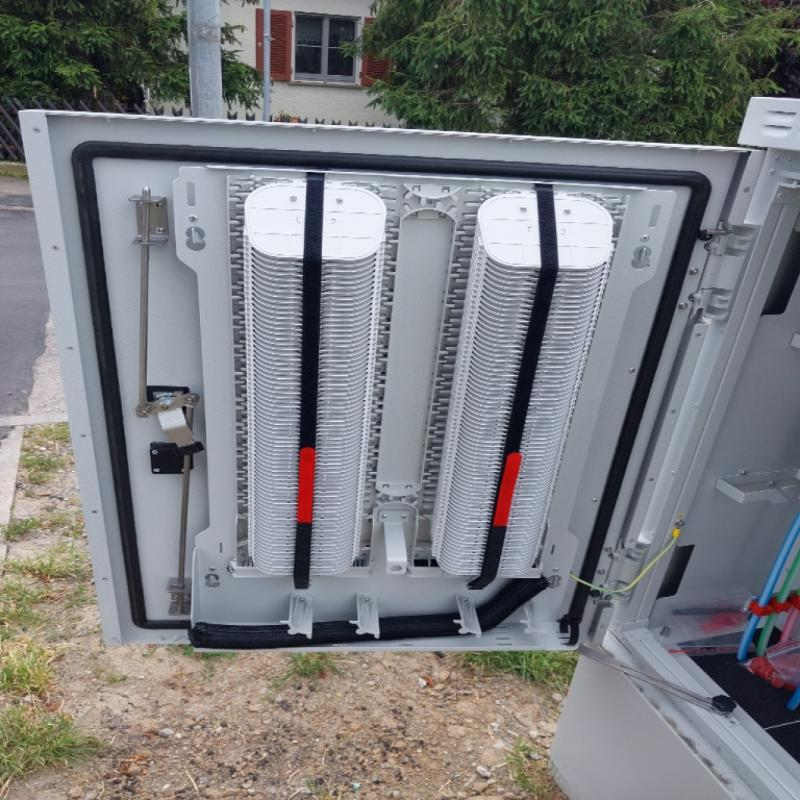NT-Gehause: (11, 97, 800, 800)
Spleiskassetten: (419, 189, 634, 589), (238, 176, 387, 584)
